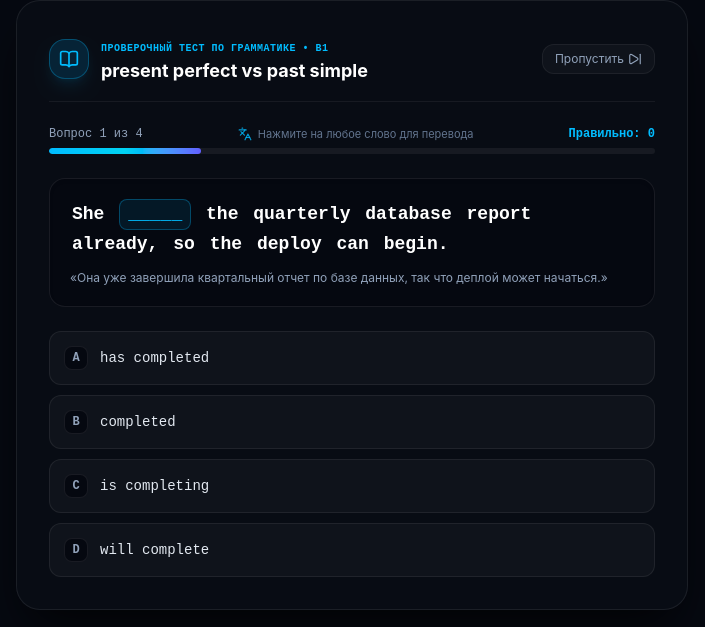
it: Criterion 8: Component Rendering and User Interactions › TopicQuizView: clicking any word in the quiz question opens inline WordPopover with translation
// Click the word "database" inside the quiz sentence
What coordinates should you click on to do the following:
click the text with test id "quiz-word-database"
I would click on:
 (408, 214)
Its box is [363,204,454,224].
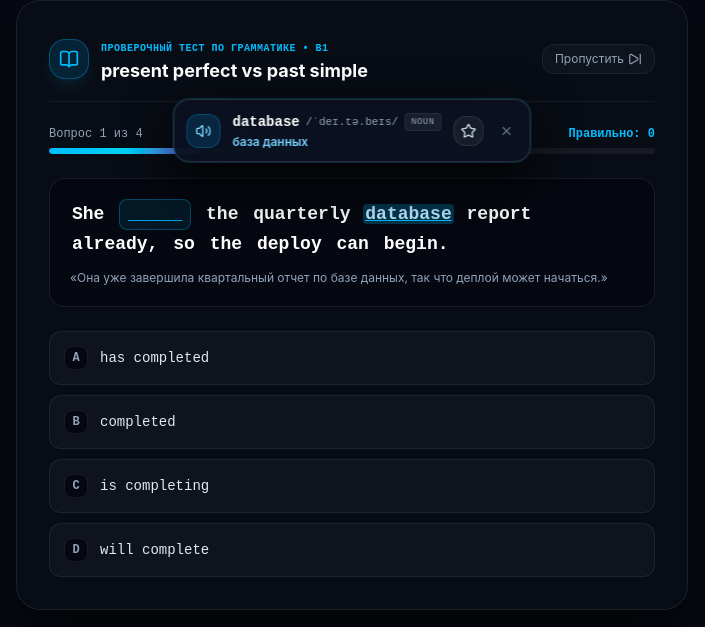
Now the element with test id "word-popover" is shown, box [174,99,530,162]
Now the element with test id "word-popover" shows "база данных", box [232,134,308,149]
